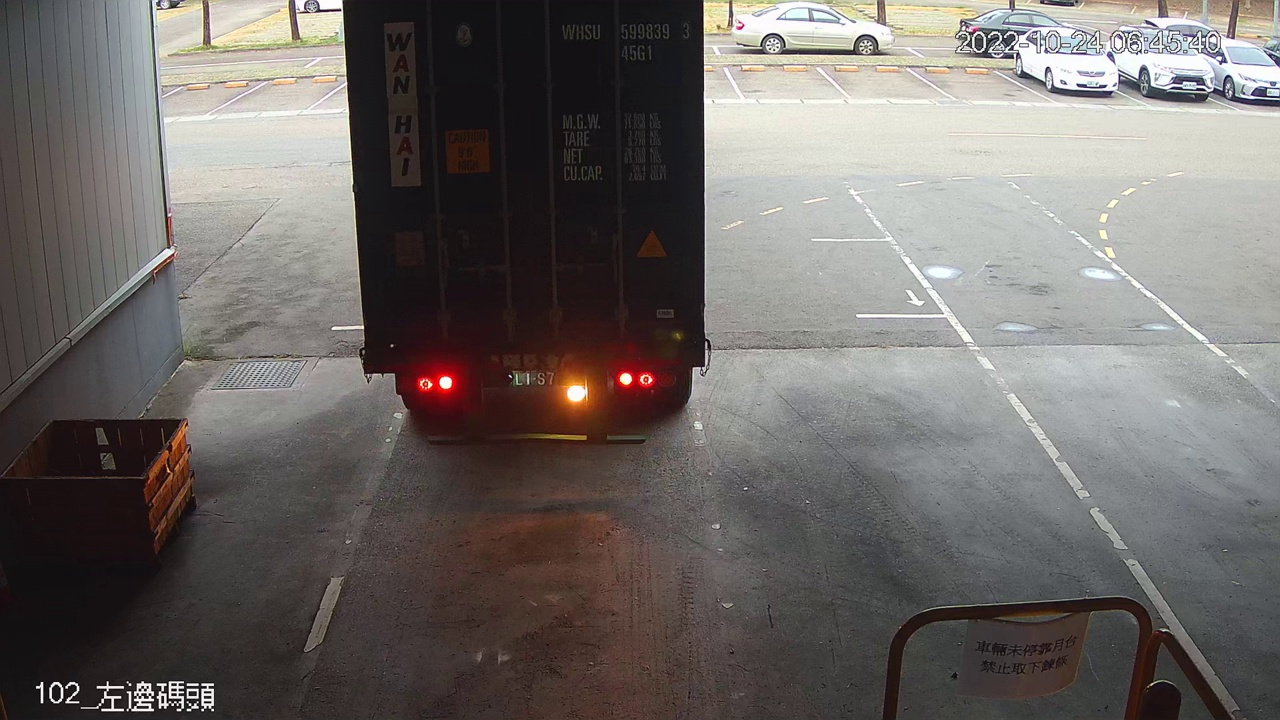container: (556, 13, 696, 67)
